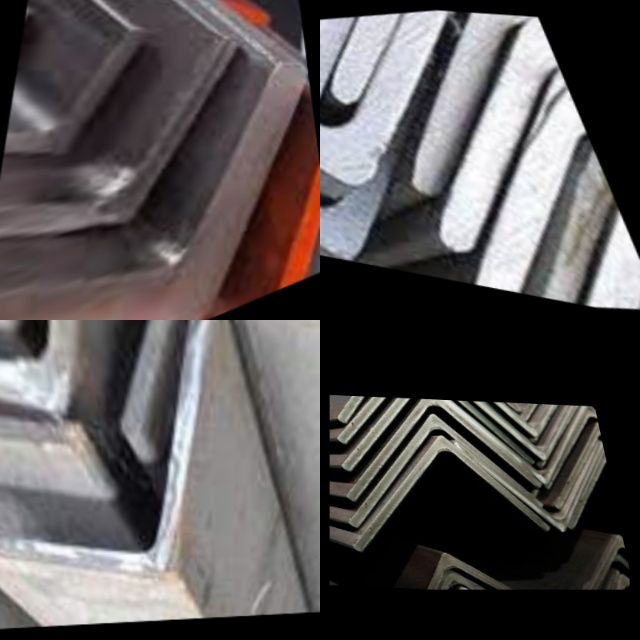Angle: (0, 78, 312, 320), (0, 120, 320, 320), (387, 21, 638, 265), (412, 68, 640, 320), (0, 320, 206, 564), (0, 35, 236, 240), (369, 6, 611, 203), (320, 0, 524, 210), (447, 139, 640, 320), (320, 3, 570, 108), (339, 438, 552, 555), (106, 320, 320, 436), (333, 417, 545, 530), (0, 405, 102, 626), (333, 395, 540, 500), (477, 197, 640, 320), (320, 123, 440, 271), (5, 26, 138, 147), (333, 395, 534, 473), (459, 441, 620, 530), (320, 2, 444, 115), (444, 400, 600, 483), (336, 395, 530, 444), (445, 400, 599, 459), (0, 320, 120, 388), (0, 320, 30, 529), (535, 411, 612, 487), (555, 443, 621, 527), (440, 400, 593, 435), (342, 396, 521, 424), (533, 404, 607, 466), (320, 8, 376, 59), (424, 560, 513, 590), (577, 540, 630, 590), (523, 403, 598, 421)
